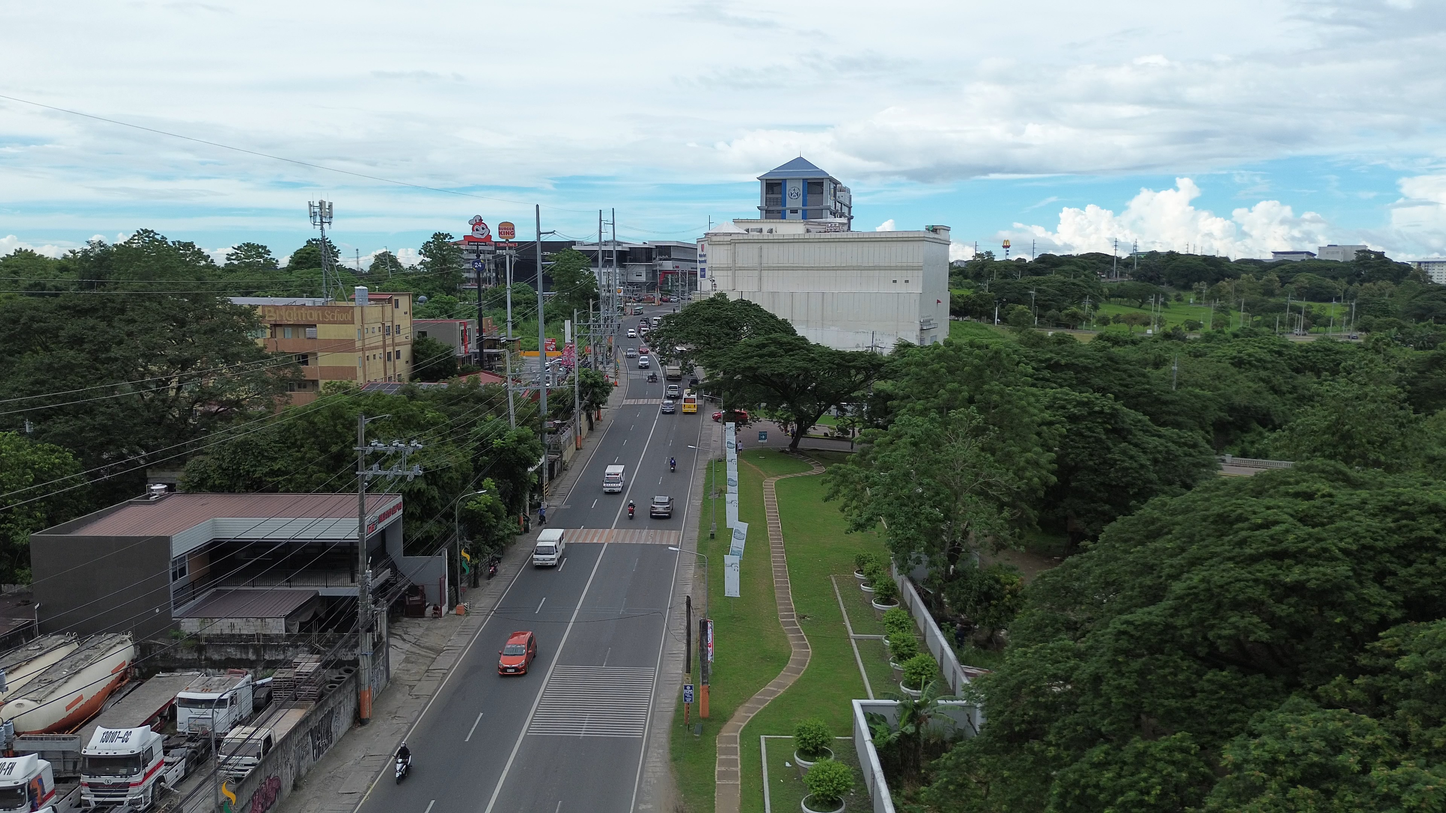bus: (682, 390, 697, 413)
car: (499, 631, 537, 674), (649, 495, 673, 518), (726, 410, 749, 423), (638, 356, 649, 368), (625, 348, 638, 358), (639, 345, 650, 355)
motorcycle: (395, 757, 409, 784), (487, 556, 499, 579), (627, 501, 635, 519), (670, 458, 676, 472)
truck: (11, 673, 209, 808), (80, 726, 186, 810), (218, 702, 313, 780)
vehicle: (0, 633, 135, 733), (81, 726, 165, 810), (0, 633, 78, 702), (176, 669, 253, 737), (0, 755, 80, 813), (218, 725, 276, 779), (532, 529, 565, 566), (602, 464, 625, 493), (712, 410, 749, 423), (395, 755, 410, 784), (681, 391, 697, 413), (665, 365, 682, 381), (660, 399, 676, 414), (665, 384, 680, 398), (627, 500, 635, 520), (638, 356, 650, 369), (650, 315, 661, 327), (627, 328, 637, 338), (647, 372, 657, 382), (639, 346, 650, 355)
